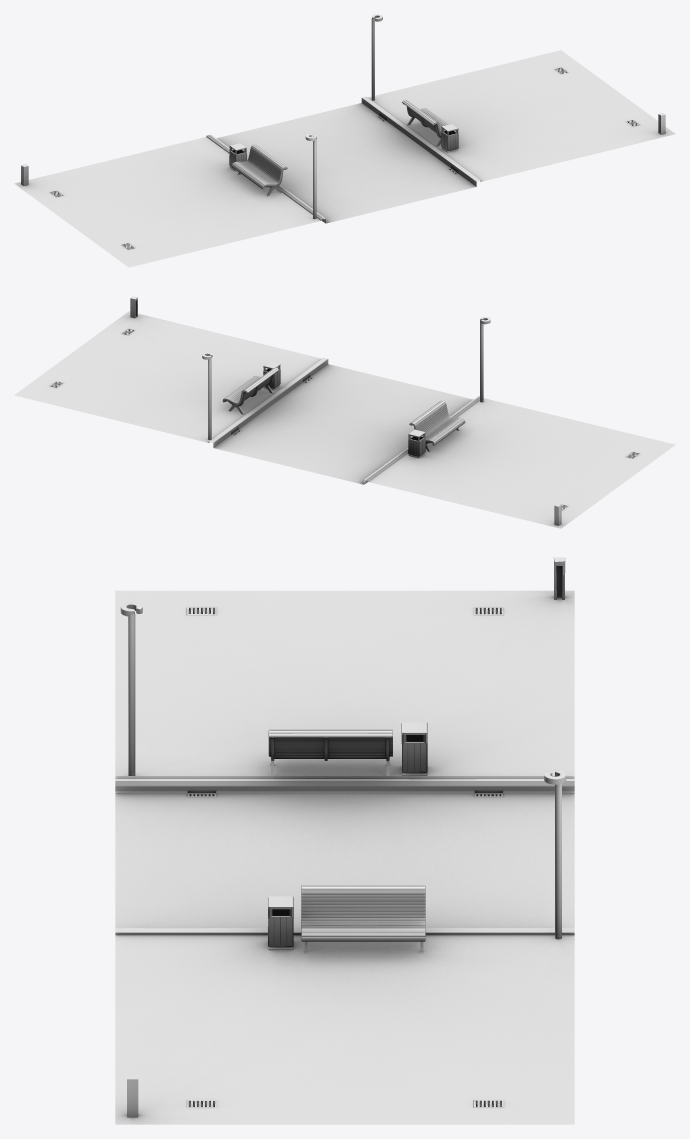
Rendered from street_7.glb.
The picture shows the model from 3 angles, top to bottom: view 1: azimuth 30°, elevation 25°; view 2: azimuth 150°, elevation 25°; view 3: azimuth 270°, elevation 25°; orthographic projection. The views are drawn at different scales.
Visible parts, largest first — view 1: street_7; view 2: street_7; view 3: street_7.
Part boxes in pixels (left/top/right/bottom): street_7: left=14, top=14, right=675, bottom=267; street_7: left=14, top=296, right=675, bottom=528; street_7: left=115, top=557, right=574, bottom=1124.
Bounding box in the file's own units: 22 × 3.35 × 8.
1 material, 1 textured.
